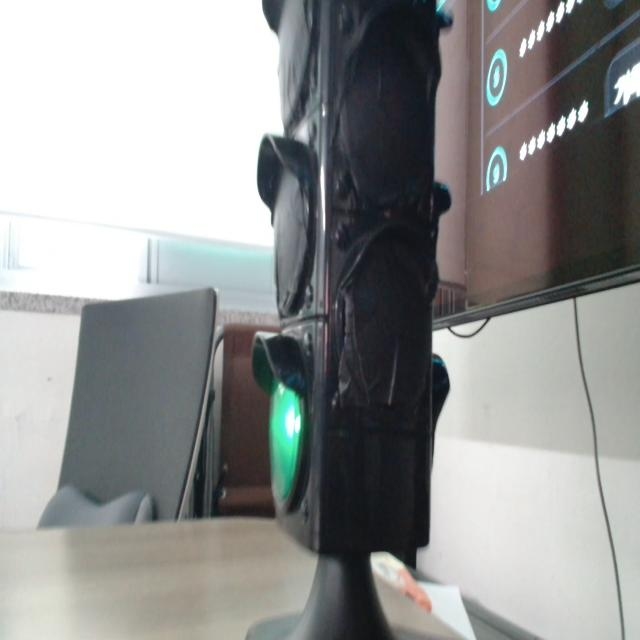green_light: (270, 383, 303, 501)
